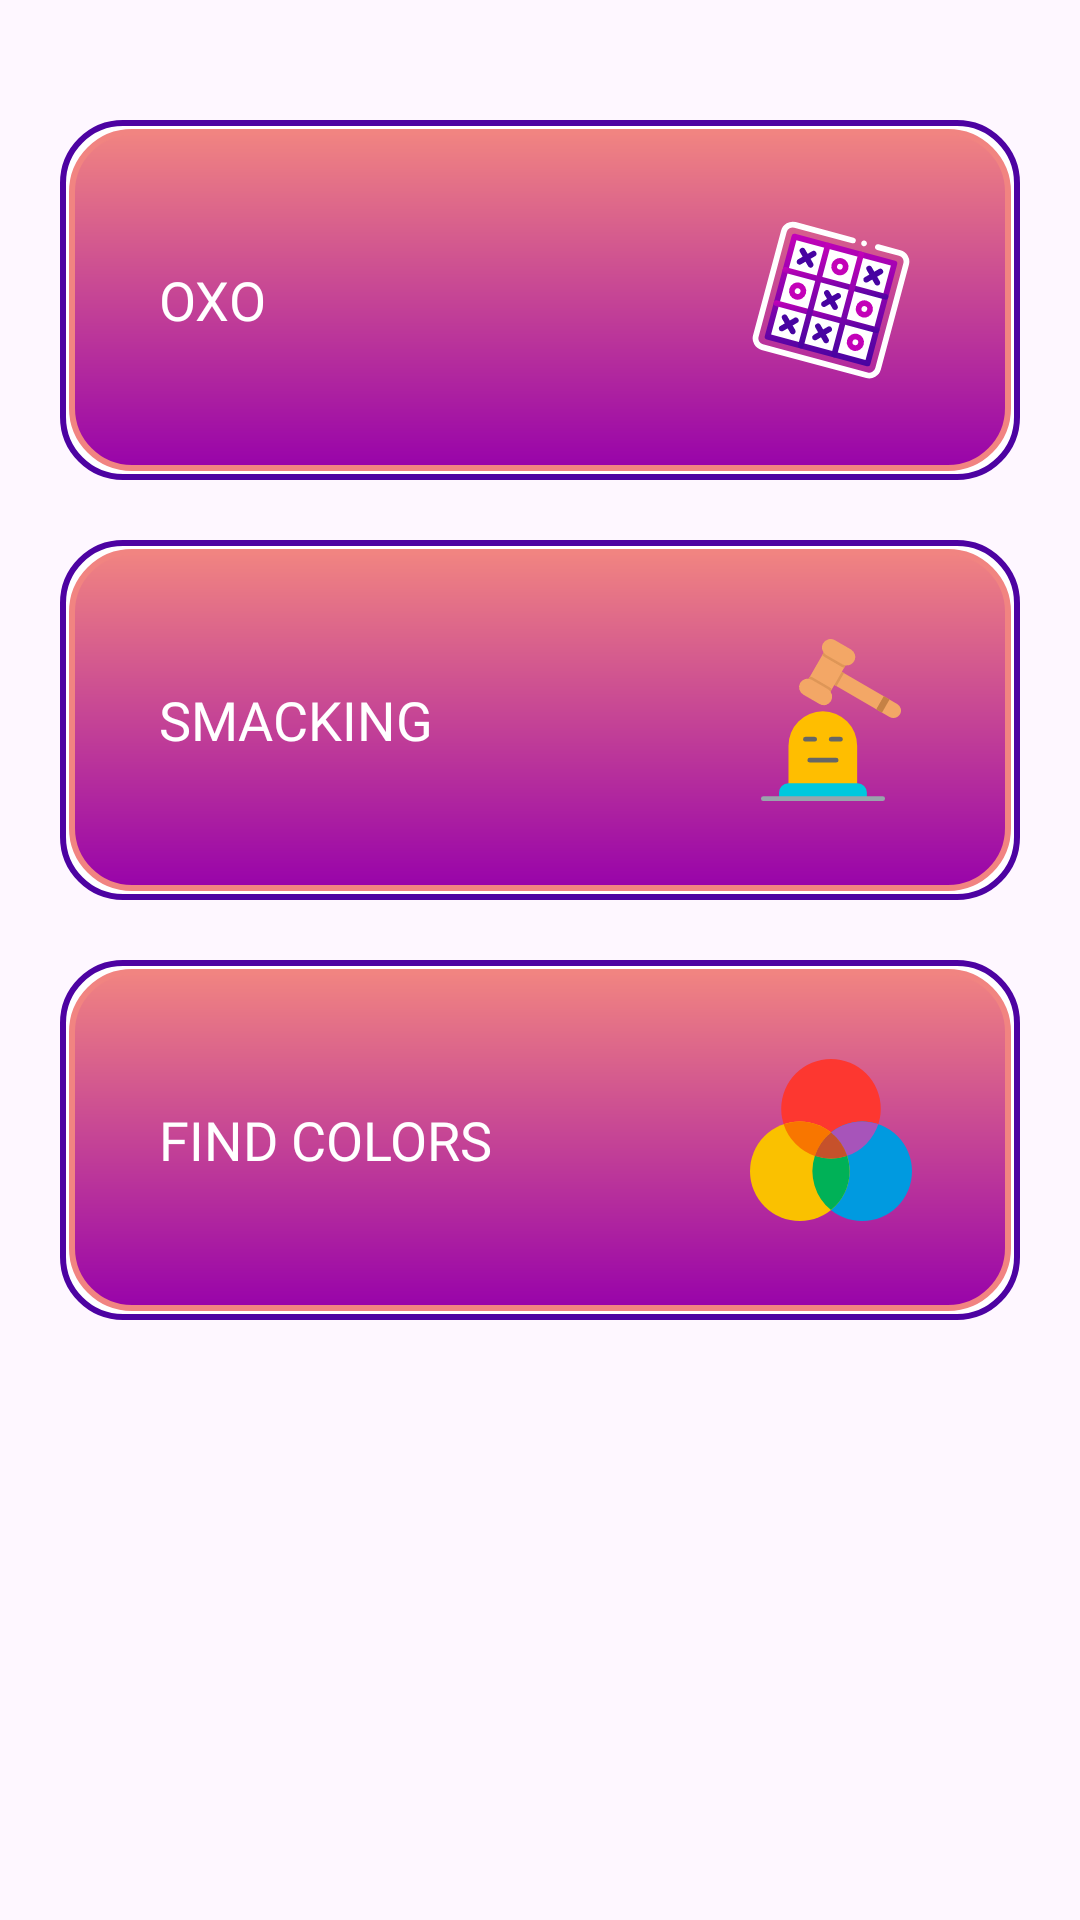

Icons on this 1080×1920 Android screen, each with the point to tap as point (x, y):
colors: point (831, 1140)
game: point (831, 300)
smack: point (831, 720)
